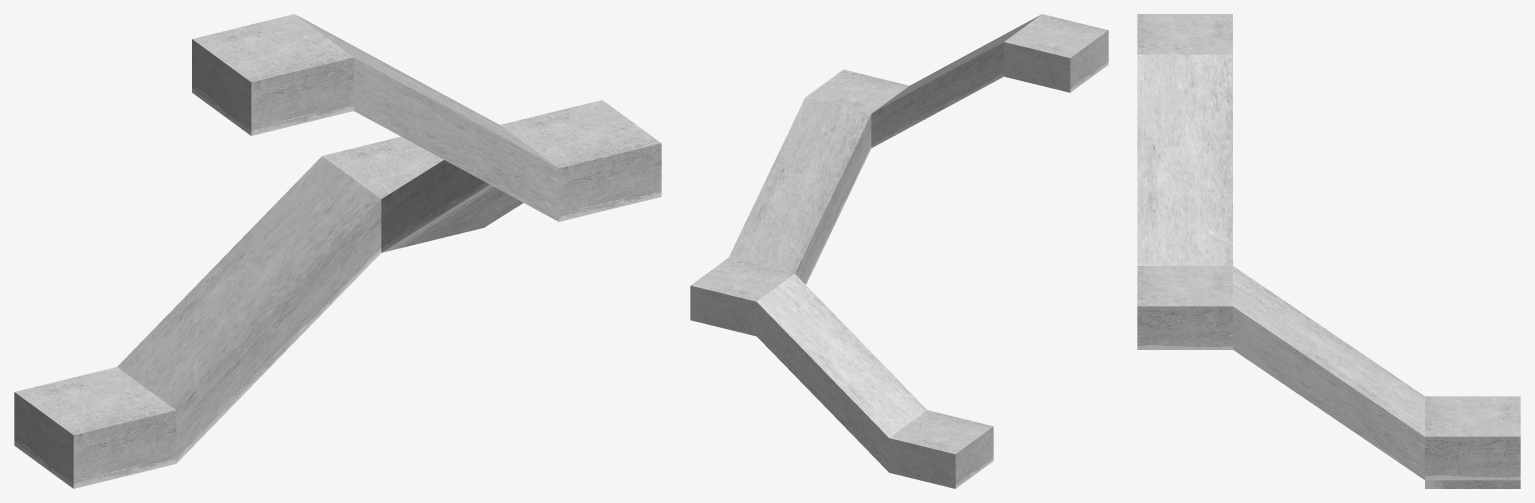
The model's file is turret-stair.fbx.
The picture shows the model from 3 angles, left to right: view 1: azimuth 30°, elevation 25°; view 2: azimuth 150°, elevation 25°; view 3: azimuth 270°, elevation 25°; orthographic projection. The views are drawn at different scales.
Parts seen in each view (by area): view 1: pCube6, pCube3, pCube10, pCube9, pCube8, pCube7, pCube5; view 2: pCube7, pCube6, pCube10, pCube3, pCube9, pCube5, pCube8; view 3: pCube9, pCube7, pCube5, pCube8, pCube10, pCube6.
Boxes of the visible parts, <box> form: pCube6: <box>117,156,381,463</box>; pCube3: <box>14,367,176,488</box>; pCube10: <box>192,14,353,135</box>; pCube9: <box>295,14,558,221</box>; pCube8: <box>500,100,661,221</box>; pCube7: <box>381,160,523,252</box>; pCube5: <box>322,136,443,198</box>; pCube7: <box>729,97,871,284</box>; pCube6: <box>756,274,926,472</box>; pCube10: <box>1004,14,1108,92</box>; pCube3: <box>889,410,993,488</box>; pCube9: <box>871,15,1040,148</box>; pCube5: <box>690,257,794,336</box>; pCube8: <box>805,69,909,113</box>; pCube9: <box>1137,54,1232,265</box>; pCube7: <box>1233,266,1424,479</box>; pCube5: <box>1425,396,1520,480</box>; pCube8: <box>1137,266,1232,349</box>; pCube10: <box>1137,14,1232,54</box>; pCube6: <box>1425,480,1520,488</box>.
Bounding box in the file's own units: 16 × 20 × 16.
1 material, 1 textured.
